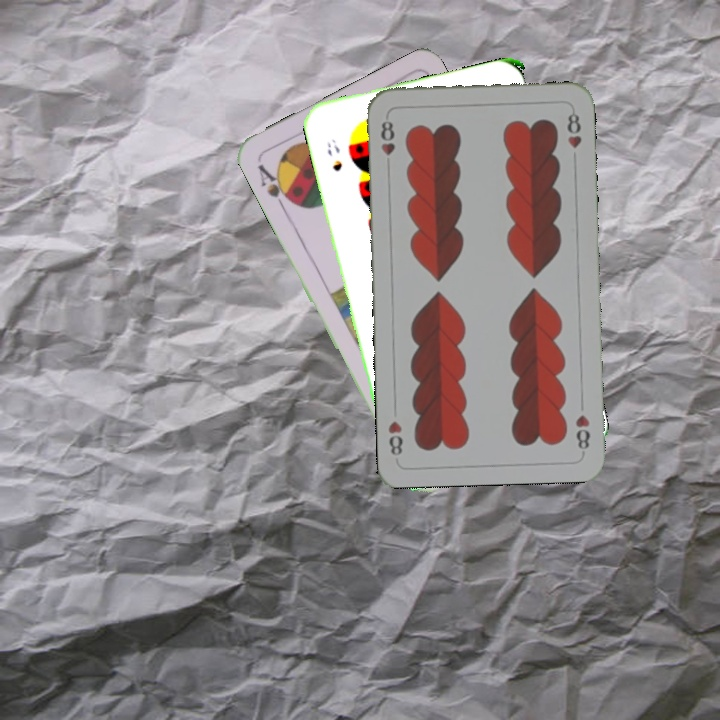H8: (571, 410, 593, 455), (377, 116, 397, 158)
S8: (322, 135, 345, 174)
SA: (253, 160, 297, 213)
